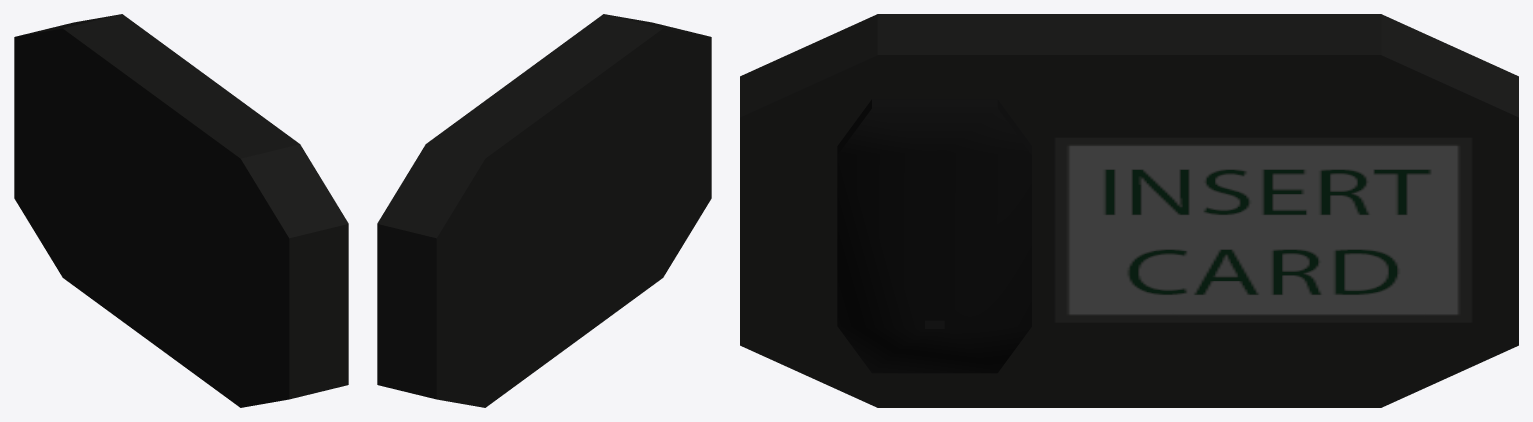
File: cardlector.obj
The picture shows the model from 3 angles, left to right: view 1: azimuth 30°, elevation 25°; view 2: azimuth 150°, elevation 25°; view 3: azimuth 270°, elevation 25°; orthographic projection. The views are drawn at different scales.
Visible parts, largest first — view 1: Cube.001; view 2: Cube.001; view 3: Cube.001, Cube.002.
Boxes of the visible parts, <box> form: Cube.001: <box>14,14,348,407</box>; Cube.001: <box>377,14,711,407</box>; Cube.001: <box>740,14,1518,407</box>; Cube.002: <box>837,99,1031,373</box>.
Size of the model in its own units: 0.6132 by 2 by 4.
Materials: 2 (1 with a texture image).
